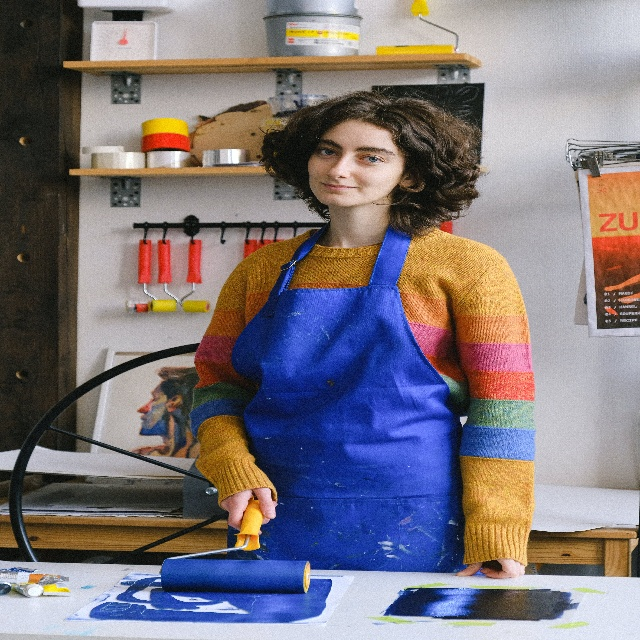Sin_guantes: (219, 485, 278, 533), (456, 559, 526, 584)
